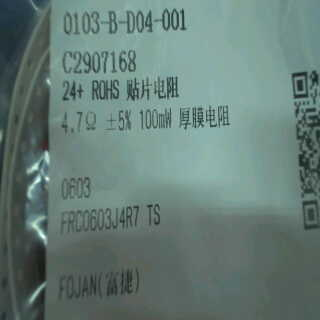4.7R: (58, 108, 98, 139)
